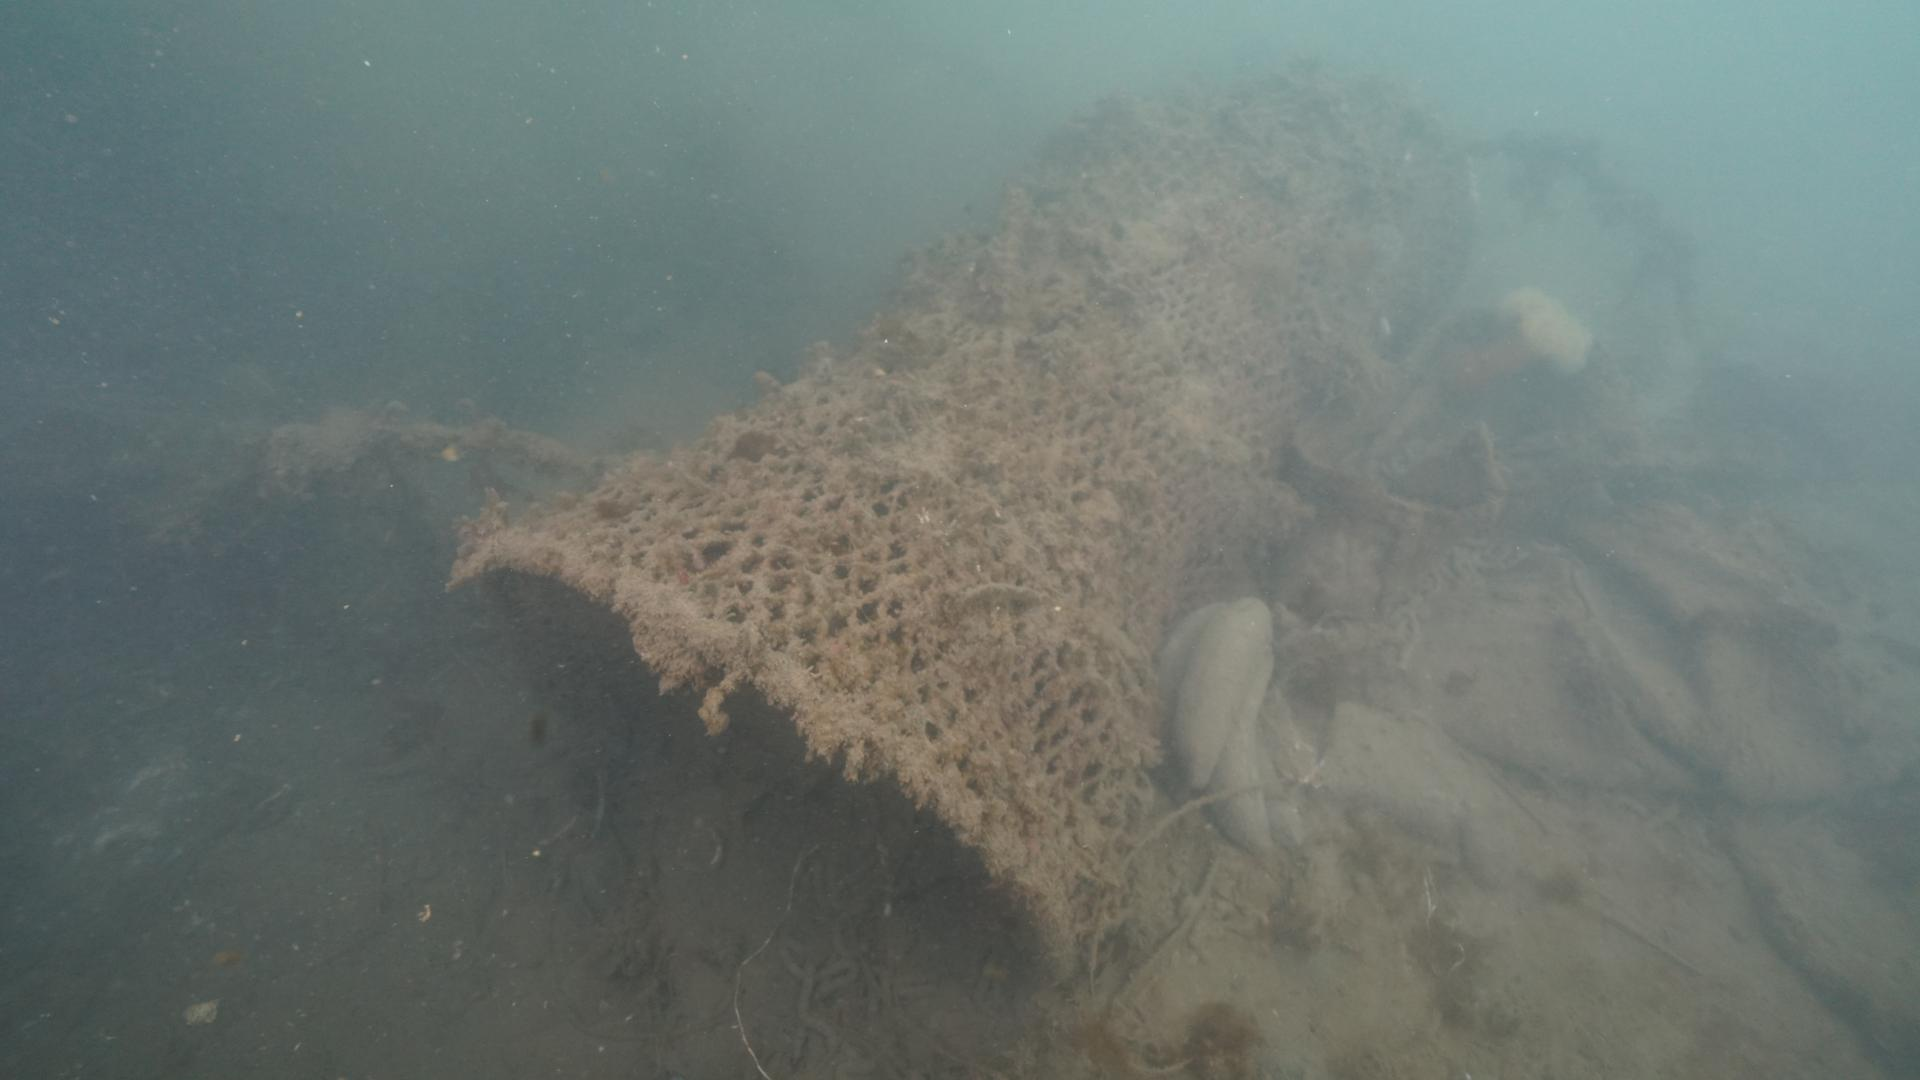spring fish trap: (450, 63, 1480, 988)
